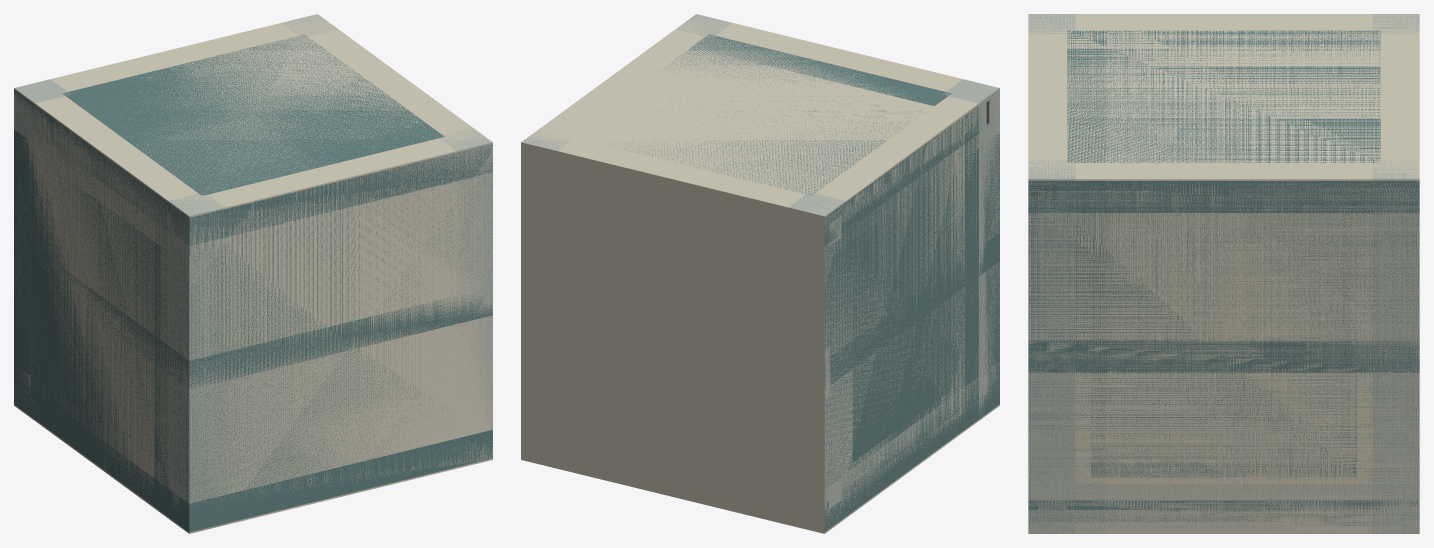
The model's file is Rainline_Modular_City_v1.glb.
The picture shows the model from 3 angles, left to right: view 1: azimuth 30°, elevation 25°; view 2: azimuth 150°, elevation 25°; view 3: azimuth 270°, elevation 25°; orthographic projection. The views are drawn at different scales.
Parts seen in each view (by area): view 1: foundation__plaster, frame__steel, facade_apartment__plaster, bridge__steel, roof__steel, frame__trim, gantry__steel, gantry__trim, props__trim; view 2: facade_apartment__plaster, foundation__plaster, roof__steel, frame__steel, frame__trim, bridge__steel, gantry__steel, gantry__trim, props__trim, facade_workshop__trim; view 3: foundation__plaster, facade_apartment__plaster, frame__steel, frame__trim, roof__steel, gantry__trim, gantry__steel, bridge__steel, facade_apartment__trim.
Boxes of the visible parts, x1=… form: foundation__plaster: x1=14, y1=14, x2=492, y2=532; frame__steel: x1=14, y1=34, x2=492, y2=532; facade_apartment__plaster: x1=14, y1=14, x2=456, y2=507; bridge__steel: x1=14, y1=128, x2=492, y2=504; roof__steel: x1=14, y1=112, x2=492, y2=509; frame__trim: x1=14, y1=14, x2=492, y2=533; gantry__steel: x1=50, y1=172, x2=161, y2=461; gantry__trim: x1=14, y1=103, x2=492, y2=533; props__trim: x1=14, y1=91, x2=492, y2=256; facade_apartment__plaster: x1=521, y1=42, x2=964, y2=533; foundation__plaster: x1=522, y1=14, x2=999, y2=533; roof__steel: x1=824, y1=124, x2=999, y2=483; frame__steel: x1=617, y1=34, x2=999, y2=531; frame__trim: x1=521, y1=14, x2=999, y2=533; bridge__steel: x1=824, y1=132, x2=999, y2=507; gantry__steel: x1=852, y1=205, x2=971, y2=462; gantry__trim: x1=824, y1=90, x2=999, y2=531; props__trim: x1=824, y1=110, x2=987, y2=247; facade_workshop__trim: x1=829, y1=109, x2=988, y2=508; foundation__plaster: x1=1028, y1=14, x2=1419, y2=533; facade_apartment__plaster: x1=1106, y1=14, x2=1419, y2=533; frame__steel: x1=1028, y1=30, x2=1419, y2=531; frame__trim: x1=1028, y1=14, x2=1419, y2=533; roof__steel: x1=1028, y1=202, x2=1419, y2=510; gantry__trim: x1=1028, y1=179, x2=1419, y2=533; gantry__steel: x1=1091, y1=236, x2=1356, y2=477; bridge__steel: x1=1028, y1=206, x2=1419, y2=483; facade_apartment__trim: x1=1038, y1=192, x2=1409, y2=509.
Size of the model in its own units: 1 by 1 by 1.
